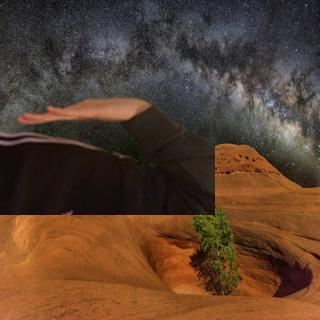Wait: (13, 91, 146, 128)
